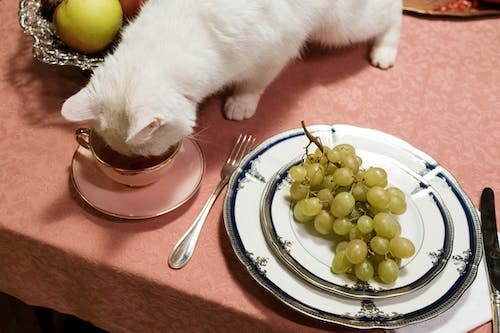knife: (478, 186, 500, 333)
